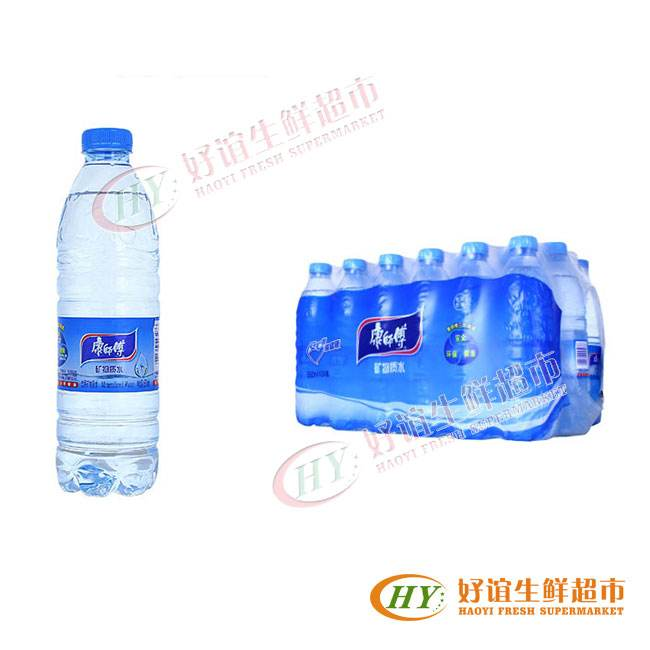amwater: (259, 223, 628, 460), (30, 94, 192, 515)
